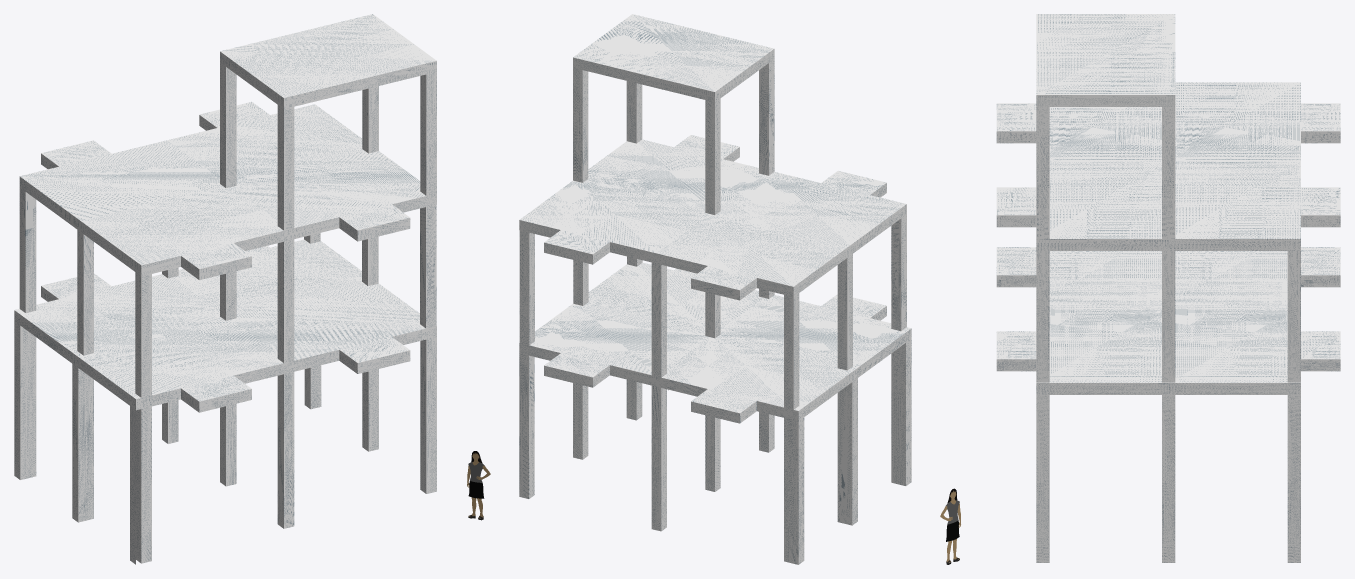
3 renders of one model, left to right at view 1: azimuth 30°, elevation 25°; view 2: azimuth 150°, elevation 25°; view 3: azimuth 270°, elevation 25°, orthographic. The views are drawn at different scales.
Parts seen in each view (by area): view 1: Floor1_4 (×8), pillar (×11), SketchUp, Roof, Balcony (×7), basePillar (×6); view 2: Floor1_4 (×8), pillar (×11), SketchUp, Roof, Balcony (×7), basePillar (×6); view 3: Floor1_4 (×8), SketchUp, Balcony (×8), Roof, pillar (×5), basePillar (×2).
Part boxes in pixels (x1,y1,x2,y2): Floor1_4 (×8): (19, 104, 436, 408); pillar (×11): (19, 62, 436, 397); SketchUp: (14, 246, 436, 564); Roof: (220, 14, 436, 108); Balcony (×7): (41, 102, 410, 412); basePillar (×6): (25, 330, 294, 563); Floor1_4 (×8): (519, 139, 906, 419); pillar (×11): (519, 59, 906, 409); SketchUp: (528, 265, 911, 564); Roof: (573, 14, 774, 102); Balcony (×7): (544, 135, 886, 423); basePillar (×6): (519, 348, 901, 562); Floor1_4 (×8): (1036, 82, 1300, 394); SketchUp: (996, 247, 1340, 562); Balcony (×8): (996, 103, 1340, 371); Roof: (1036, 14, 1175, 106); pillar (×5): (1036, 107, 1300, 382); basePillar (×2): (1162, 395, 1300, 562).
Bounding box in the file's own units: 316 × 325 × 419.
